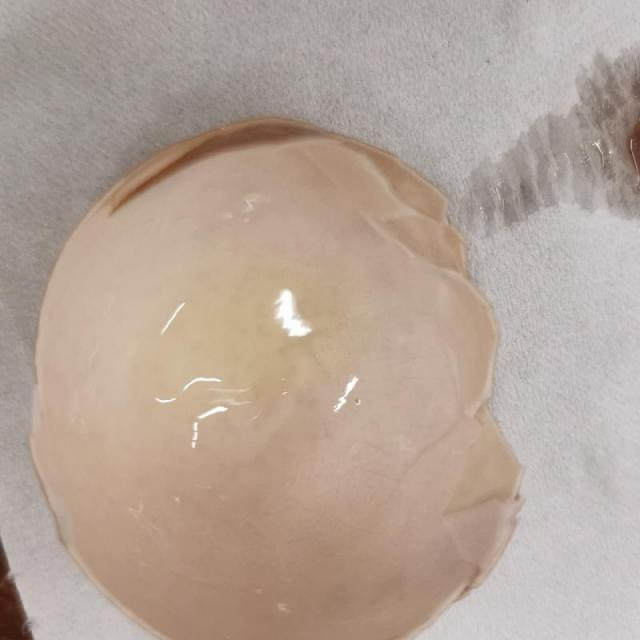egg shell: (23, 116, 526, 640)
